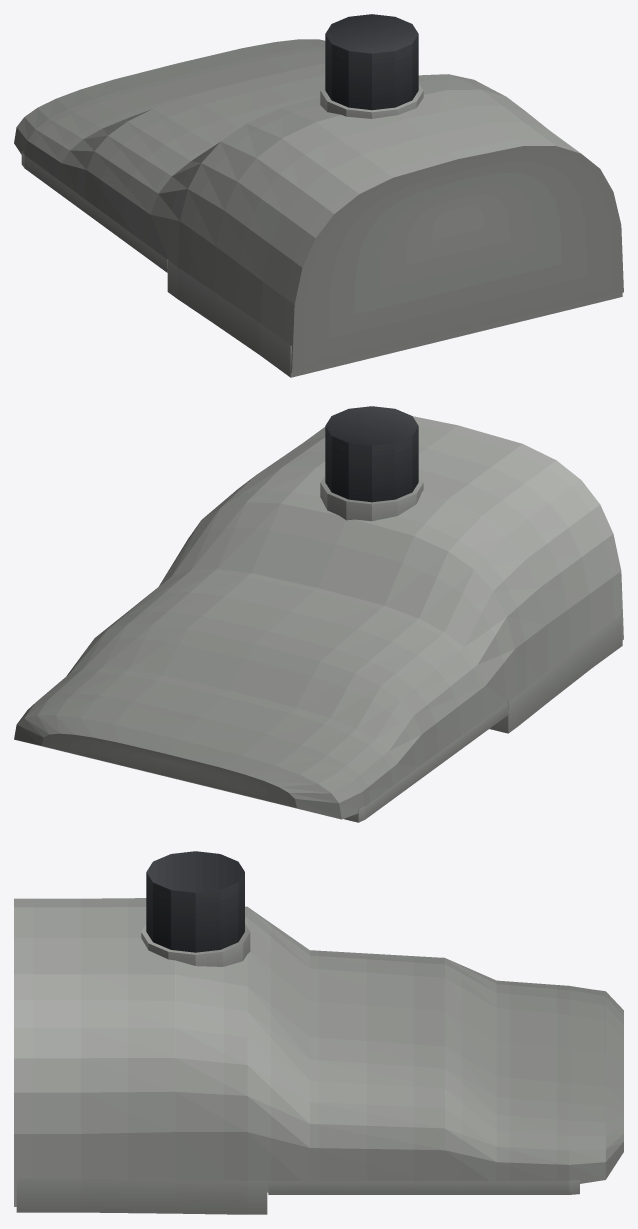
Rendered from streetlight_ltgcl.obj.
The picture shows the model from 3 angles, top to bottom: view 1: azimuth 30°, elevation 25°; view 2: azimuth 150°, elevation 25°; view 3: azimuth 270°, elevation 25°; orthographic projection. The views are drawn at different scales.
Parts seen in each view (by area): view 1: fixture; view 2: fixture; view 3: fixture.
Boxes of the visible parts, bbox=[...] form: fixture: bbox=[14, 14, 623, 377]; fixture: bbox=[14, 406, 623, 822]; fixture: bbox=[14, 851, 623, 1214].
Bounding box in the file's own units: 0.5 × 0.3387 × 0.7344.
